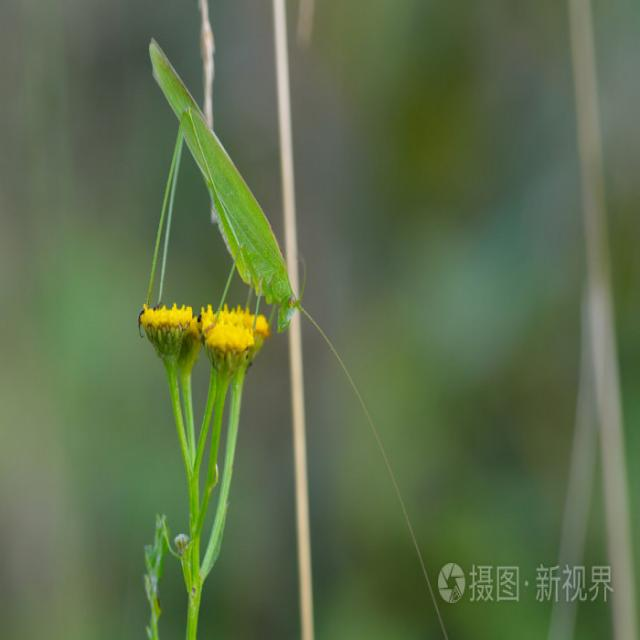ZhaMeng: (136, 29, 323, 343)
